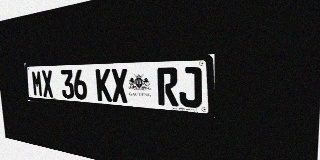3: (60, 70, 74, 99)
6: (73, 69, 88, 100)
J: (179, 67, 202, 108)
K: (95, 69, 112, 102)
M: (31, 70, 43, 97)
R: (157, 67, 179, 107)
X: (111, 68, 129, 103), (41, 70, 54, 98)
